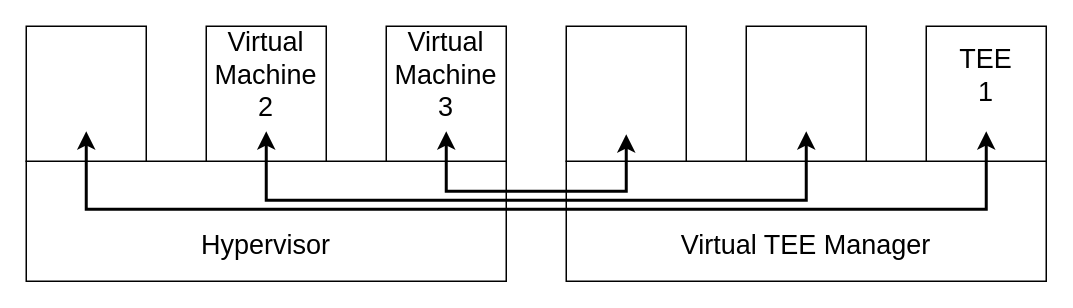
Image size: 1073x308. Some labels were removed from this diagram. Here are the shapes that lost their labels. From the top down, the centre of each, then its label:
At point (85, 93): "Virtual Machine 1".
At point (625, 93): "TEE 3".
At point (805, 93): "TEE 2".
